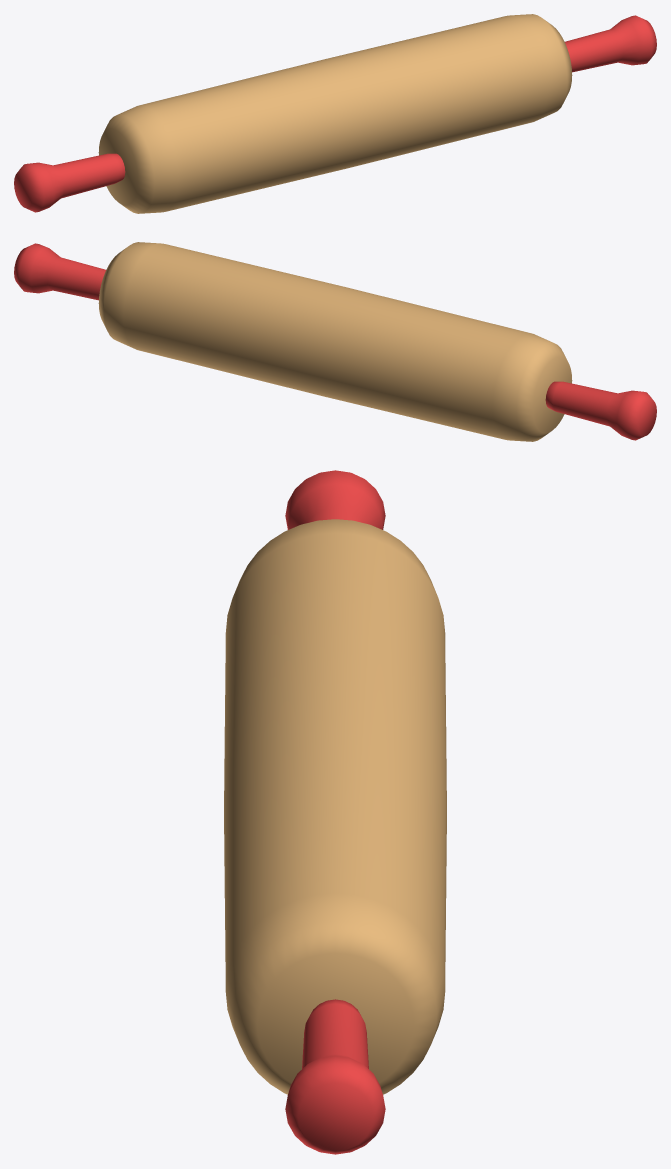
File: RollingPin.obj
The picture shows the model from 3 angles, top to bottom: view 1: azimuth 30°, elevation 25°; view 2: azimuth 150°, elevation 25°; view 3: azimuth 270°, elevation 25°; orthographic projection. The views are drawn at different scales.
Visible parts, largest first — view 1: Pin, Handles; view 2: Pin, Handles; view 3: Pin, Handles.
Part boxes in pixels (left/top/right/bottom): Pin: left=98, top=14, right=572, bottom=213; Handles: left=14, top=15, right=656, bottom=212; Pin: left=98, top=242, right=572, bottom=441; Handles: left=14, top=243, right=656, bottom=440; Pin: left=224, top=519, right=446, bottom=1094; Handles: left=285, top=470, right=385, bottom=1154.
Bounding box in the file's own units: 23.04 × 3.56 × 3.56.
